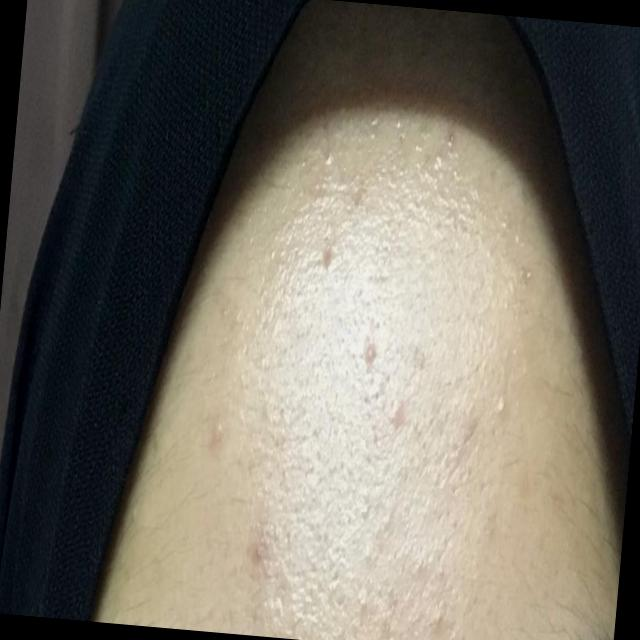fungal: (174, 105, 557, 640)
